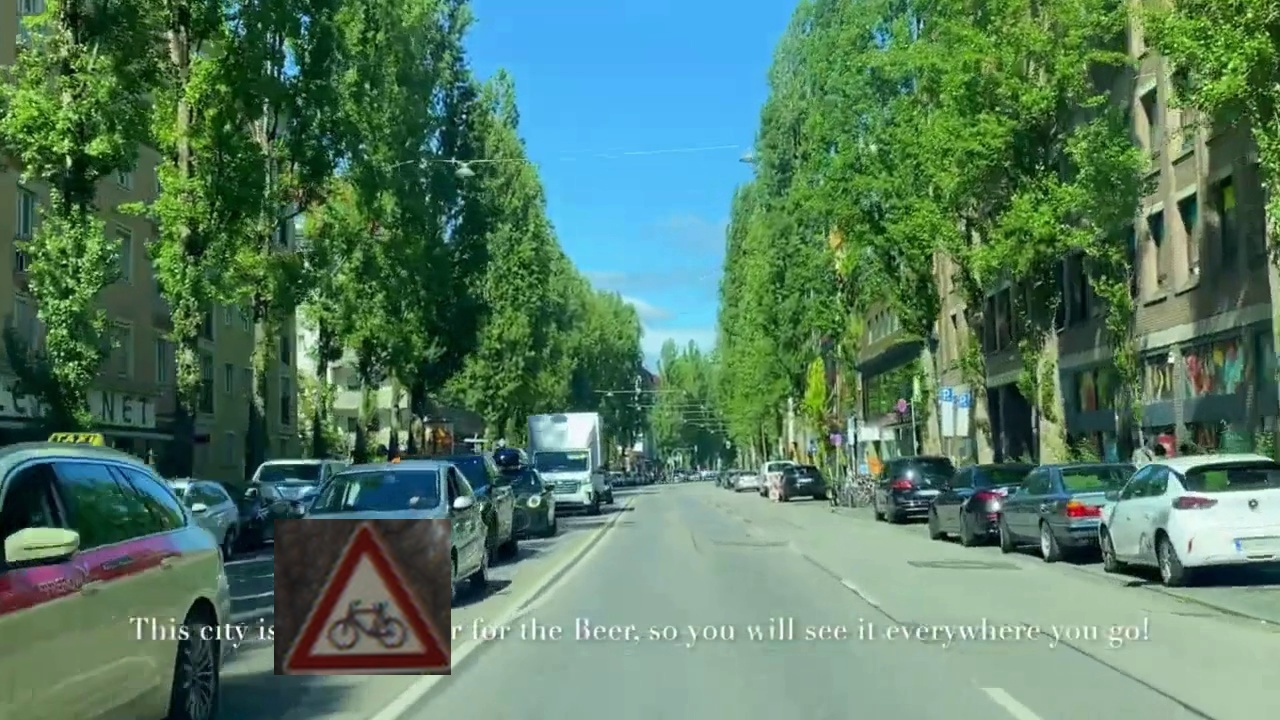Bicycles: (274, 519, 451, 675)
